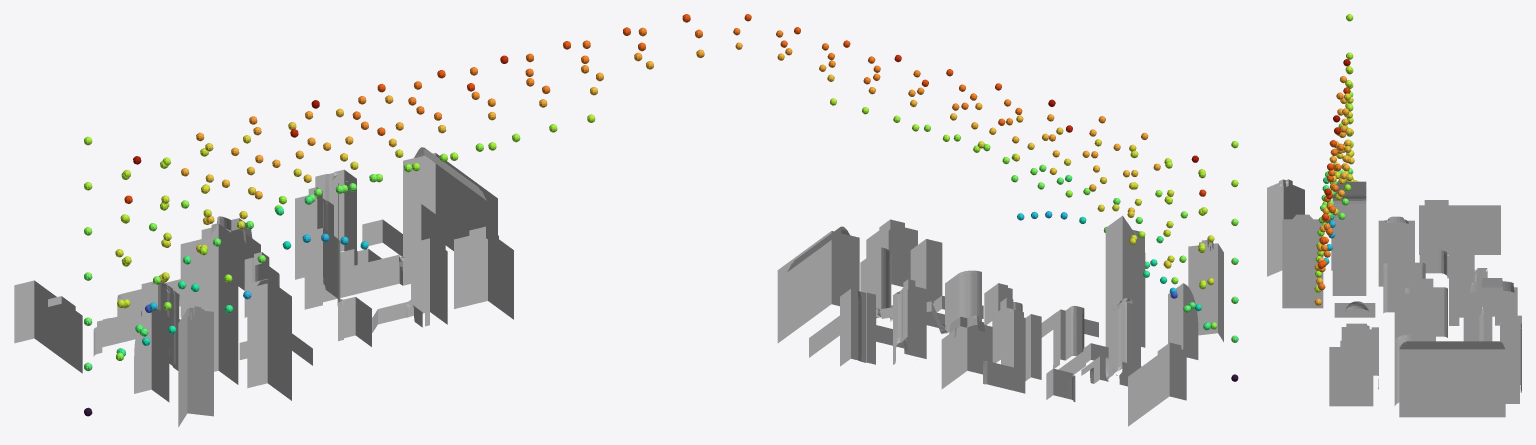
Rendered from wab_ImportRotateScale.glb.
3 renders of one model, left to right at view 1: azimuth 30°, elevation 25°; view 2: azimuth 150°, elevation 25°; view 3: azimuth 270°, elevation 25°, orthographic. The views are drawn at different scales.
Visible parts, largest first — view 1: mesh0, Renderer Node.012, Renderer Node.004, Renderer Node.010, Renderer Node.005, Renderer Node.009, Renderer Node.001, Renderer Node.002; view 2: mesh0, Renderer Node.012, Renderer Node.004, Renderer Node.009, Renderer Node.010, Renderer Node.005, Renderer Node.002, Renderer Node.001; view 3: mesh0, Renderer Node.010, Renderer Node.009, Renderer Node.004, Renderer Node.012, Renderer Node.002, Renderer Node.005, Renderer Node.006, Renderer Node.011.
Boxes of the visible parts, x1=… form: mesh0: x1=14, y1=147, x2=513, y2=427; Renderer Node.012: x1=84, y1=61, x2=653, y2=370; Renderer Node.004: x1=145, y1=27, x2=646, y2=312; Renderer Node.010: x1=116, y1=49, x2=704, y2=353; Renderer Node.005: x1=149, y1=29, x2=702, y2=310; Renderer Node.009: x1=135, y1=40, x2=590, y2=331; Renderer Node.001: x1=135, y1=14, x2=690, y2=332; Renderer Node.002: x1=84, y1=41, x2=570, y2=416; mesh0: x1=777, y1=215, x2=1223, y2=426; Renderer Node.012: x1=777, y1=53, x2=1238, y2=342; Renderer Node.004: x1=776, y1=30, x2=1177, y2=298; Renderer Node.009: x1=822, y1=43, x2=1189, y2=312; Renderer Node.010: x1=735, y1=42, x2=1210, y2=328; Renderer Node.005: x1=733, y1=28, x2=1176, y2=293; Renderer Node.002: x1=843, y1=40, x2=1238, y2=381; Renderer Node.001: x1=744, y1=14, x2=1190, y2=311; mesh0: x1=1267, y1=179, x2=1521, y2=417; Renderer Node.010: x1=1314, y1=72, x2=1353, y2=305; Renderer Node.009: x1=1315, y1=83, x2=1354, y2=277; Renderer Node.004: x1=1314, y1=97, x2=1357, y2=292; Renderer Node.012: x1=1316, y1=14, x2=1352, y2=284; Renderer Node.002: x1=1321, y1=16, x2=1352, y2=221; Renderer Node.005: x1=1317, y1=96, x2=1353, y2=290; Renderer Node.006: x1=1322, y1=93, x2=1350, y2=199; Renderer Node.011: x1=1319, y1=69, x2=1353, y2=244.
Size of the model in its own units: 2.34 by 1.04 by 1.01.
17 materials, 16 textured.
